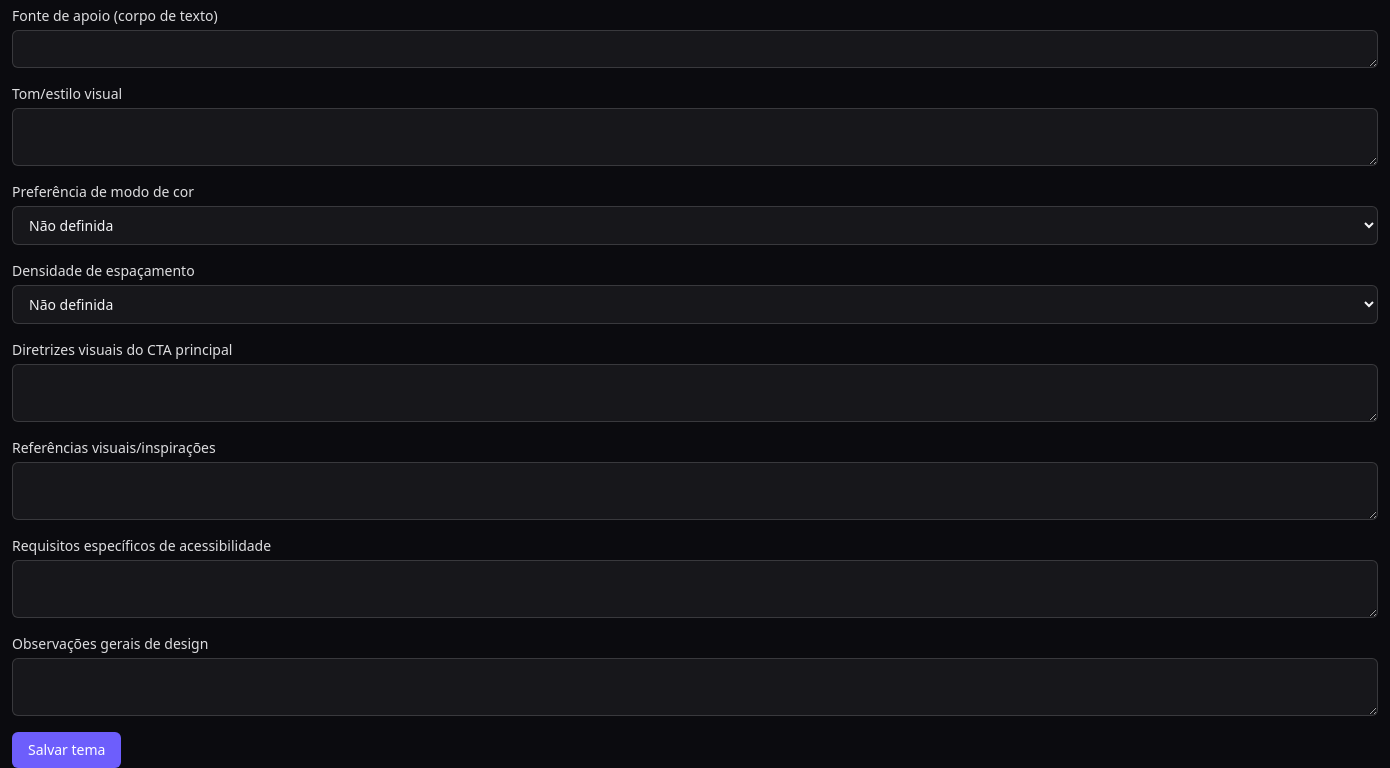
Test: SiteThemeForm › shows a pending state while the action is running
The width and height of the screenshot is (1390, 768).
(page scrolled)
What coordinates should you click on to do the following:
click the button "Salvar tema"
I would click on:
 (67, 750)
Its box is 12,732 -> 121,767.
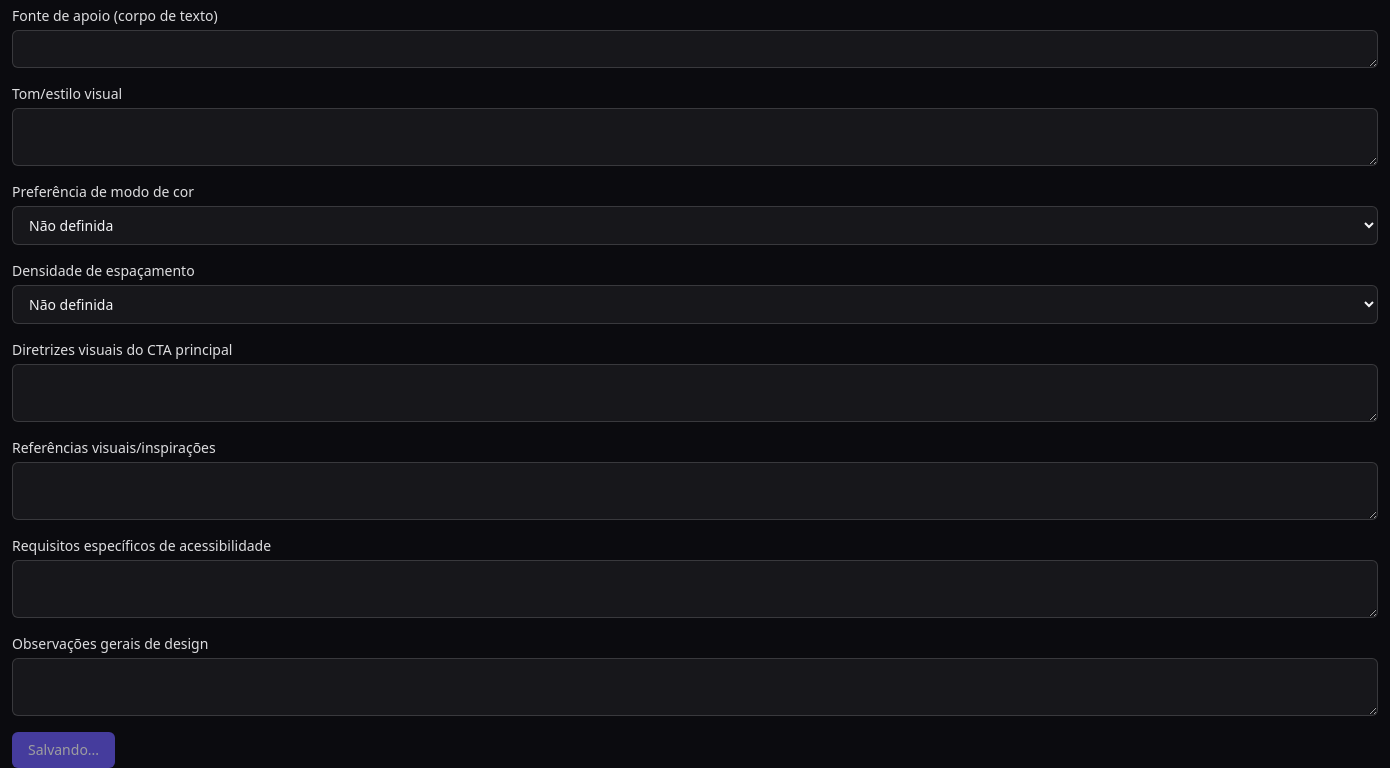
Result: the button "Salvando..." is disabled at 12,732 -> 115,767
